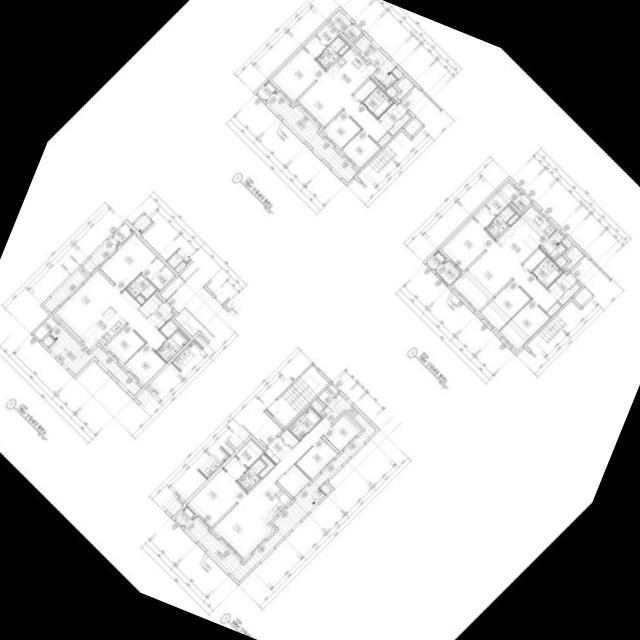background: (0, 0, 640, 640)
space_balconi: (183, 393, 375, 581), (265, 90, 356, 182), (47, 324, 140, 395), (42, 236, 118, 312), (353, 34, 395, 88), (539, 230, 565, 260), (434, 260, 459, 284), (328, 9, 351, 32)
space_bedroom: (187, 468, 245, 526), (99, 234, 155, 290), (440, 217, 494, 271), (270, 47, 324, 101), (479, 280, 529, 330), (498, 299, 548, 349), (295, 437, 336, 478), (124, 343, 165, 384), (105, 324, 144, 363), (341, 129, 379, 167), (322, 110, 360, 148), (322, 415, 358, 451)
space_dressroom: (472, 182, 518, 227), (222, 439, 262, 479), (303, 24, 337, 57), (141, 256, 174, 290)
space_front: (377, 101, 406, 130), (547, 271, 576, 300), (263, 436, 291, 464), (146, 301, 172, 329)
space_kitchen: (496, 205, 554, 263), (327, 47, 375, 93), (78, 305, 125, 348), (249, 482, 290, 523)
space_living_room: (212, 417, 330, 558), (54, 270, 166, 350), (452, 241, 556, 311), (297, 70, 387, 141)
space_other: (276, 464, 309, 496), (33, 316, 57, 340), (522, 248, 546, 271), (353, 78, 376, 101), (138, 294, 161, 317), (395, 75, 414, 100), (564, 245, 583, 270), (557, 283, 579, 304), (388, 113, 409, 135), (317, 384, 337, 404), (403, 116, 422, 136), (342, 23, 361, 42), (572, 286, 591, 305), (279, 428, 298, 447), (258, 454, 273, 477), (511, 193, 530, 211), (159, 319, 177, 337), (376, 132, 390, 146), (546, 302, 560, 316), (390, 66, 403, 79), (310, 399, 323, 411), (506, 213, 518, 225), (41, 335, 53, 347), (337, 43, 348, 55), (384, 86, 396, 97), (554, 255, 565, 267), (319, 482, 330, 494), (560, 238, 570, 248), (135, 294, 144, 304)
space_outdoor_room: (112, 222, 132, 243), (174, 506, 193, 526), (425, 250, 444, 269), (256, 80, 275, 99)
space_staircase: (266, 365, 328, 427)
space_toilet: (155, 329, 188, 362), (288, 406, 320, 439), (484, 205, 514, 238), (531, 256, 562, 287), (361, 86, 392, 117), (236, 458, 265, 491), (315, 36, 344, 68), (125, 273, 156, 299)
